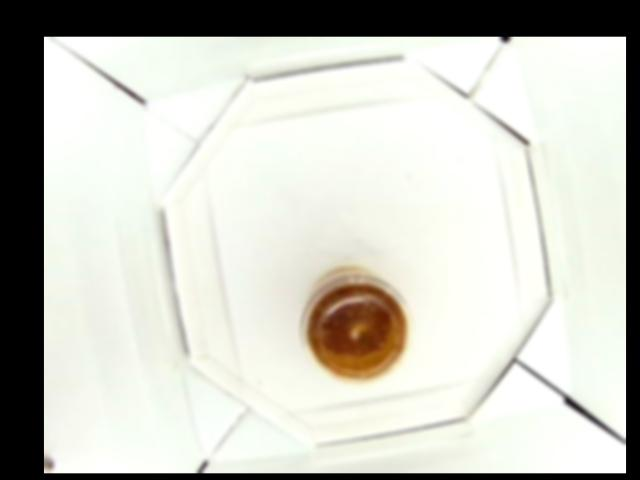Bottle: (299, 267, 413, 383)
